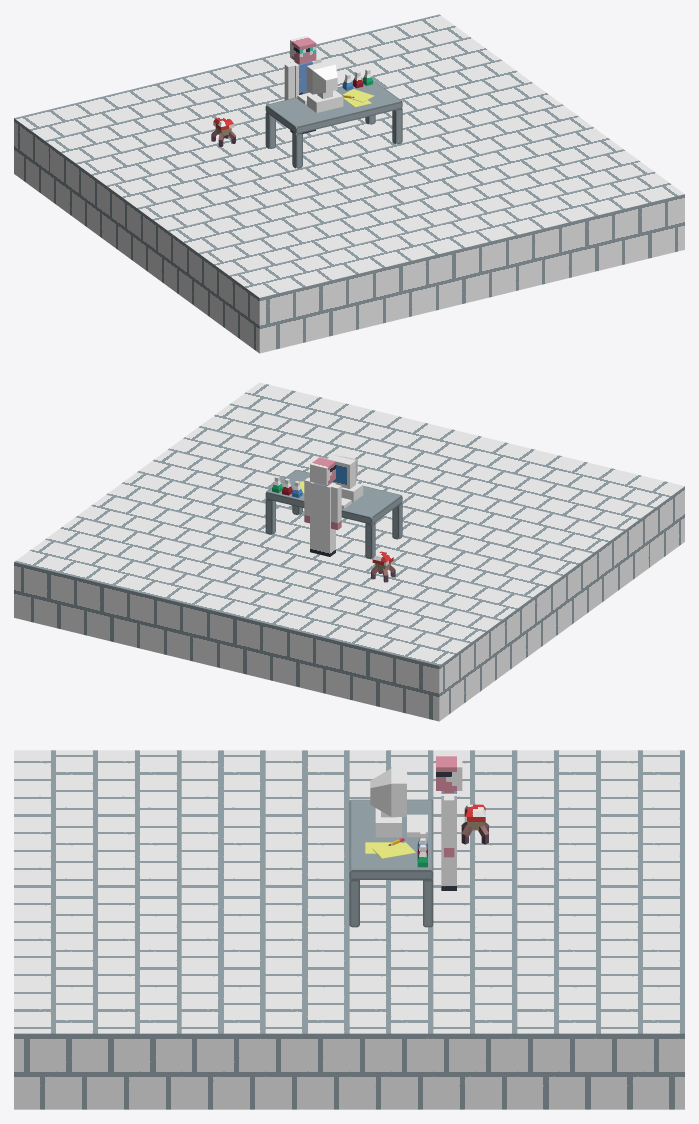
The picture shows the model from 3 angles, top to bottom: view 1: azimuth 30°, elevation 25°; view 2: azimuth 150°, elevation 25°; view 3: azimuth 270°, elevation 25°; orthographic projection. The views are drawn at different scales.
Visible parts, largest first — view 1: suelo, table_board, computer, table, Head; view 2: suelo, table_board, computer, table, Head; view 3: suelo, table_board, computer, table, Head.
Part boxes in pixels (x1,y1,x2,y2): suelo: [14, 14, 684, 353]; table_board: [265, 80, 402, 133]; computer: [297, 60, 343, 112]; table: [292, 108, 402, 168]; Head: [290, 36, 316, 64]; suelo: [14, 382, 684, 721]; table_board: [265, 470, 402, 524]; computer: [327, 455, 363, 508]; table: [265, 499, 402, 539]; Head: [310, 457, 335, 485]; suelo: [14, 750, 684, 1109]; table_board: [349, 799, 433, 879]; computer: [370, 768, 427, 837]; table: [349, 878, 433, 927]; Head: [436, 756, 462, 790].
Size of the model in its own units: 800 by 262 by 800.
